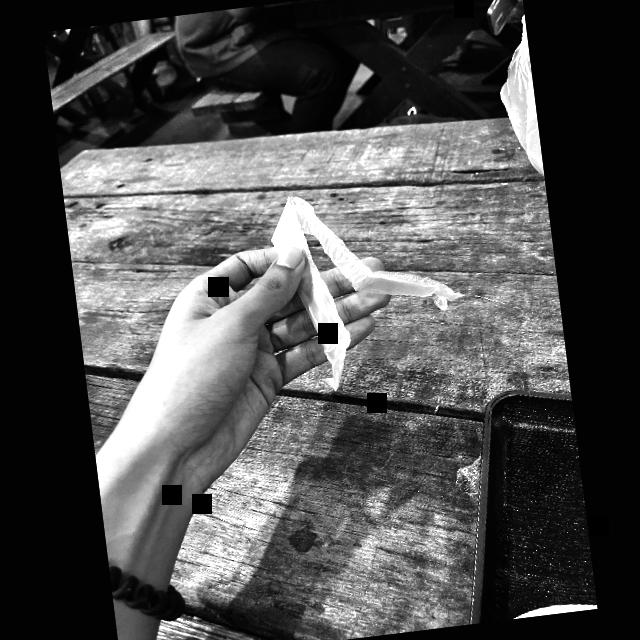scrap_plastic: (260, 170, 476, 394)
